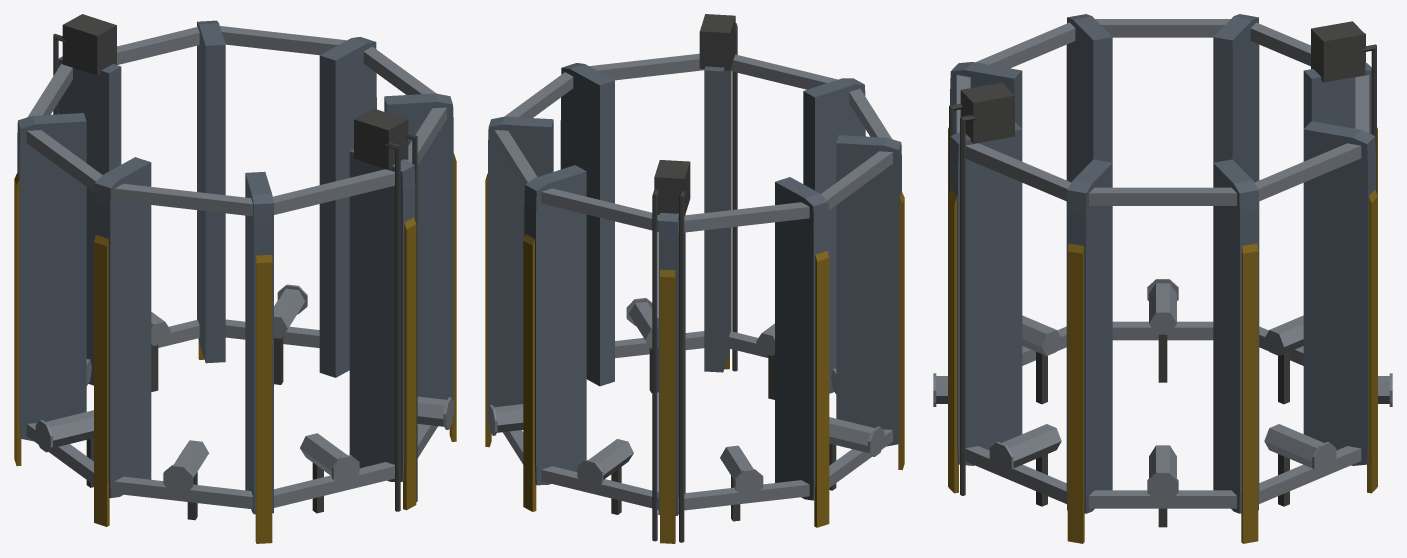
File: reactor_dressing.glb
3 views of the same model, side by side, from view 1: azimuth 30°, elevation 25°; view 2: azimuth 150°, elevation 25°; view 3: azimuth 270°, elevation 25° (orthographic). The views are drawn at different scales.
Parts seen in each view (by area): view 1: reactor_dressing; view 2: reactor_dressing; view 3: reactor_dressing.
Part boxes in pixels (x1,y1,x2,y2): reactor_dressing: (14, 14, 456, 543); reactor_dressing: (485, 14, 904, 543); reactor_dressing: (933, 14, 1392, 543).
Size of the model in its own units: 6.6 by 6.2 by 6.6.
